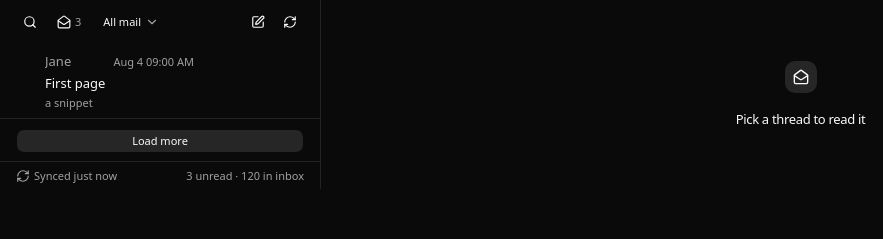
loads the next page when asked
Click the button "Load more" at coordinates (160, 141), box [16, 129, 304, 153]
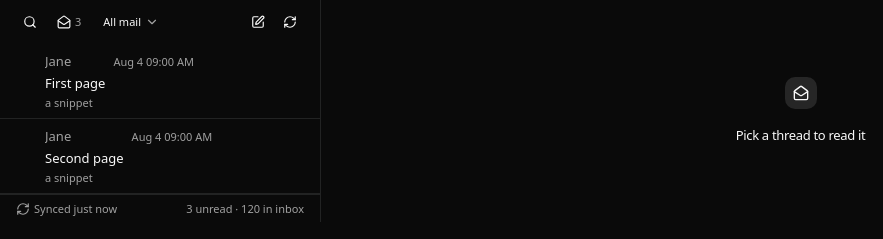
Expected: the text "First page" is shown, [45, 74, 105, 92]
Expected: the text "Second page" is shown, [45, 149, 124, 167]
Expected: the button "Load more" is gone
